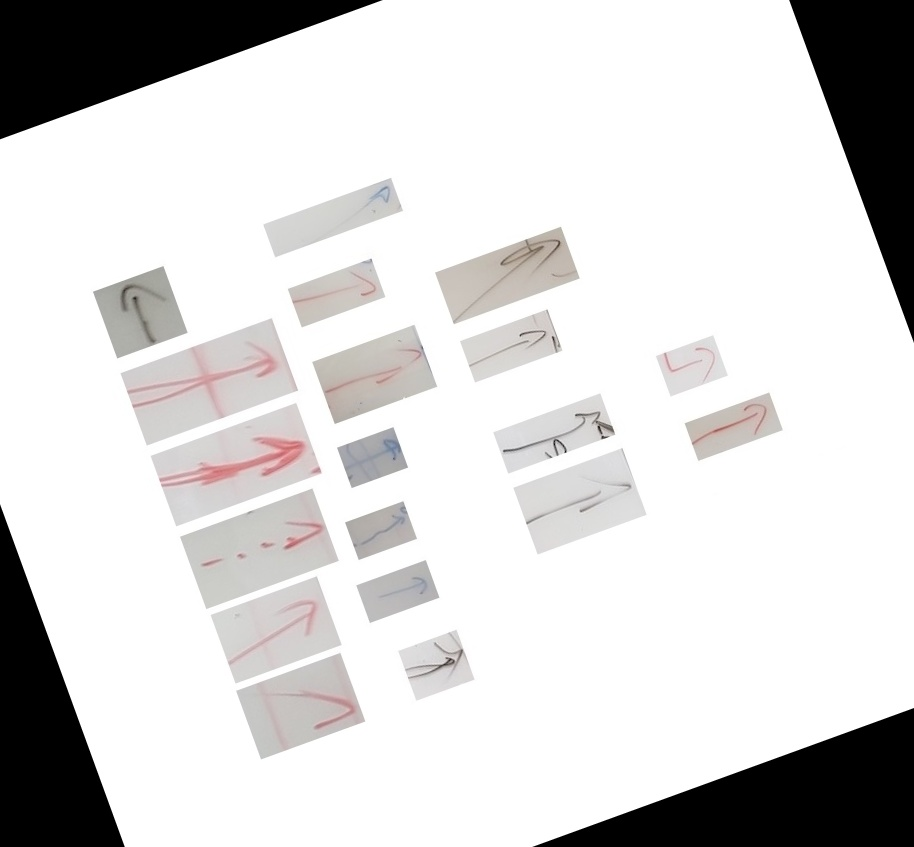arrow: (121, 309, 270, 426), (181, 400, 293, 502), (65, 257, 189, 343), (450, 215, 557, 310), (518, 442, 616, 532), (214, 487, 312, 574), (320, 320, 414, 406), (222, 576, 312, 659), (498, 384, 592, 457), (261, 644, 335, 734), (282, 247, 364, 317), (461, 299, 535, 371), (687, 385, 758, 446), (357, 552, 419, 612), (317, 168, 381, 226), (397, 621, 450, 687), (336, 417, 389, 477), (341, 493, 394, 548), (662, 328, 705, 381)
